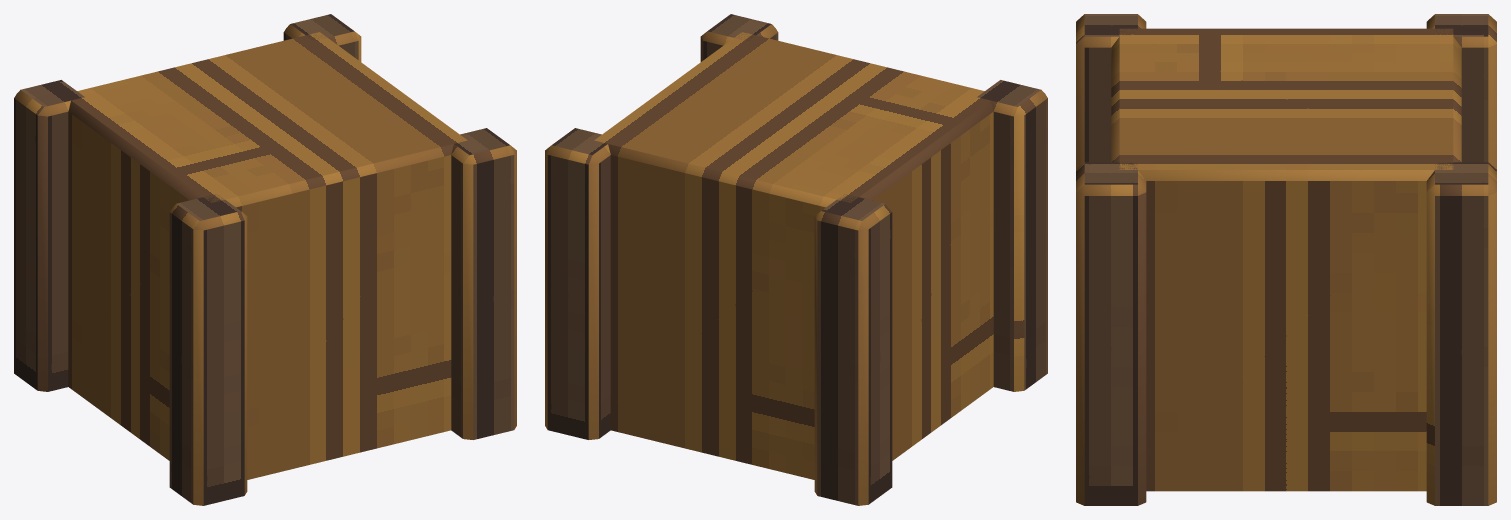
The model's file is crate_0.glb.
The picture shows the model from 3 angles, left to right: view 1: azimuth 30°, elevation 25°; view 2: azimuth 150°, elevation 25°; view 3: azimuth 270°, elevation 25°; orthographic projection. The views are drawn at different scales.
Parts seen in each view (by area): view 1: crate_1; view 2: crate_1; view 3: crate_1.
Part boxes in pixels (bbox=[...]): crate_1: bbox=[14, 14, 516, 505]; crate_1: bbox=[545, 14, 1047, 505]; crate_1: bbox=[1076, 14, 1496, 505].
Size of the model in its own units: 0.6 by 0.5 by 0.6.
2 materials, 2 textured.
